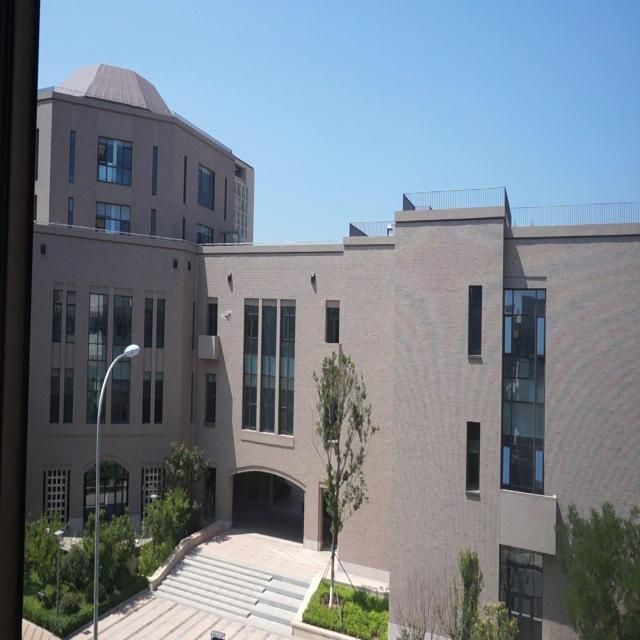drone: (219, 308, 235, 324)
